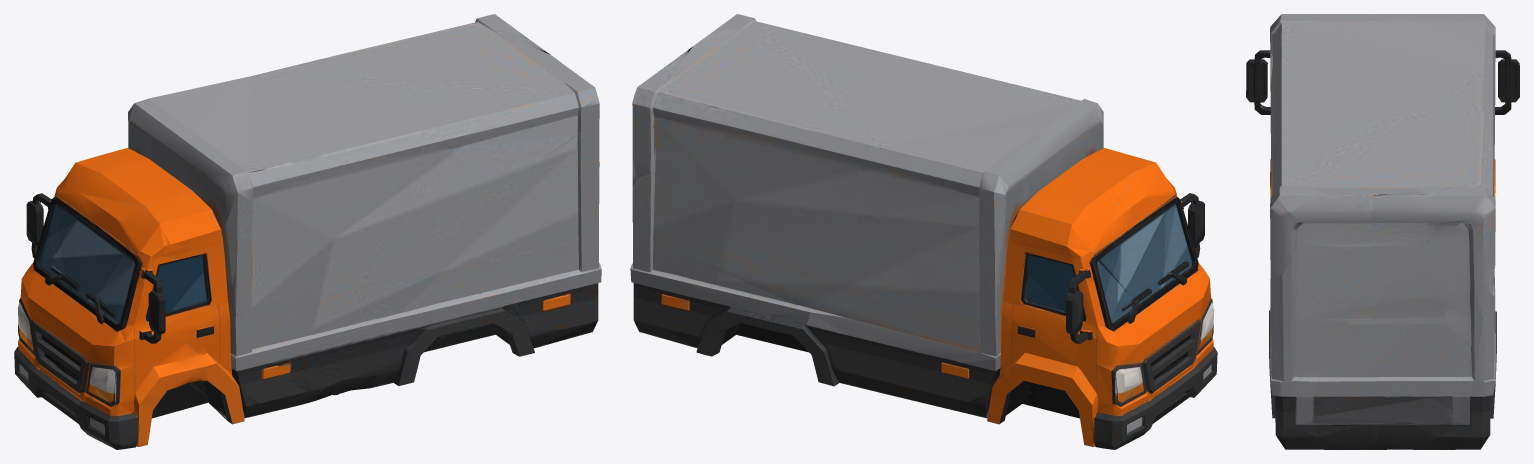
File: camion.glb
3 views of the same model, side by side, from view 1: azimuth 30°, elevation 25°; view 2: azimuth 150°, elevation 25°; view 3: azimuth 270°, elevation 25° (orthographic). The views are drawn at different scales.
Size of the model in its own units: 1.9 by 0.9128 by 0.8853.
1 material, 1 textured.
